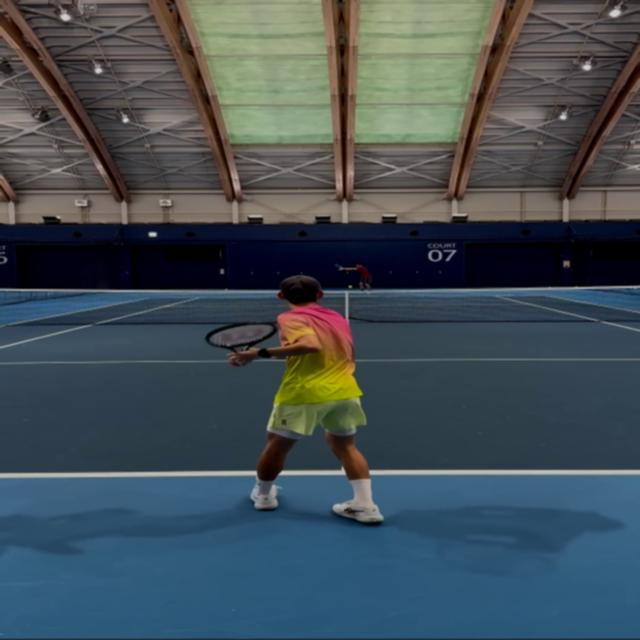tennis_ball: (349, 286, 352, 288)
